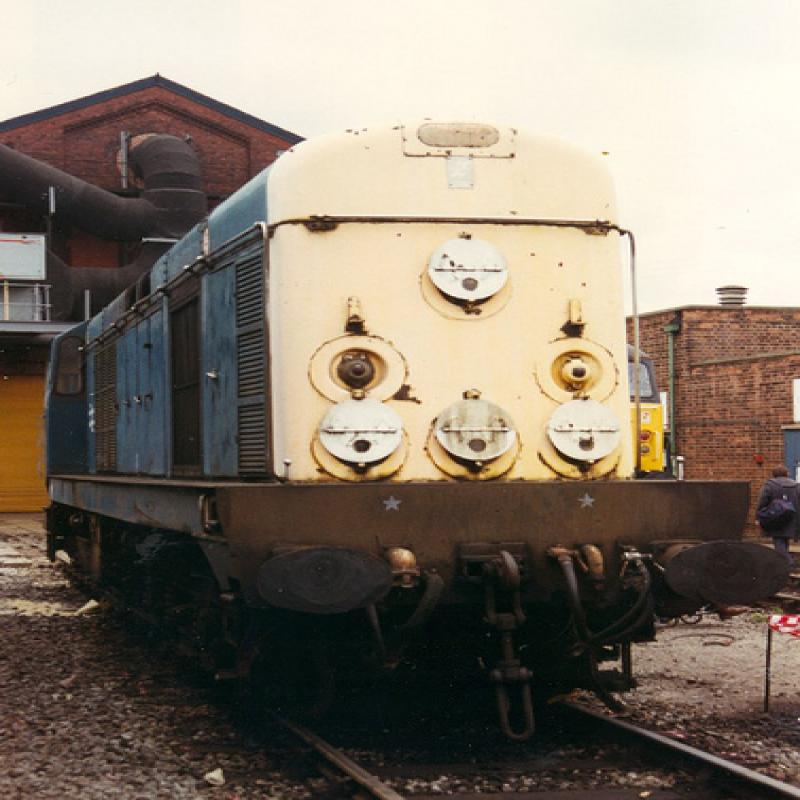train: (42, 121, 789, 745)
